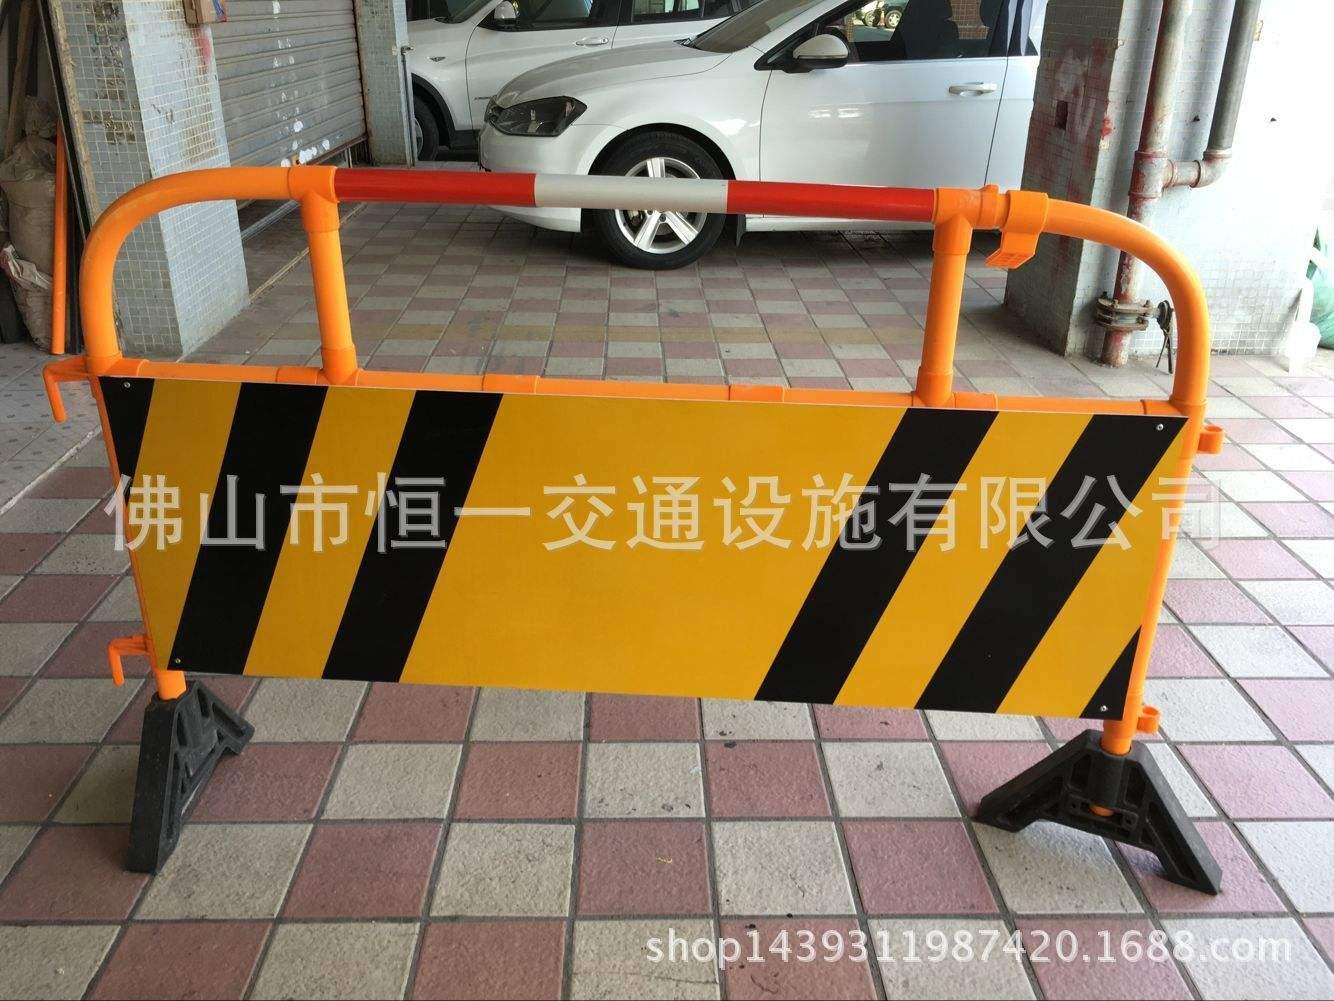sign: (57, 164, 1256, 878)
